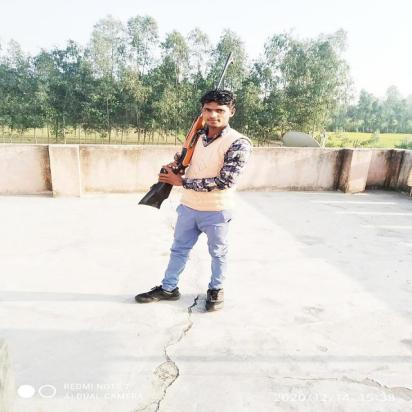Gun: (136, 49, 239, 210)
